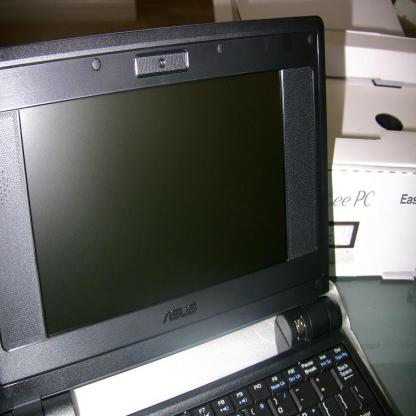board: (0, 15, 397, 416)
